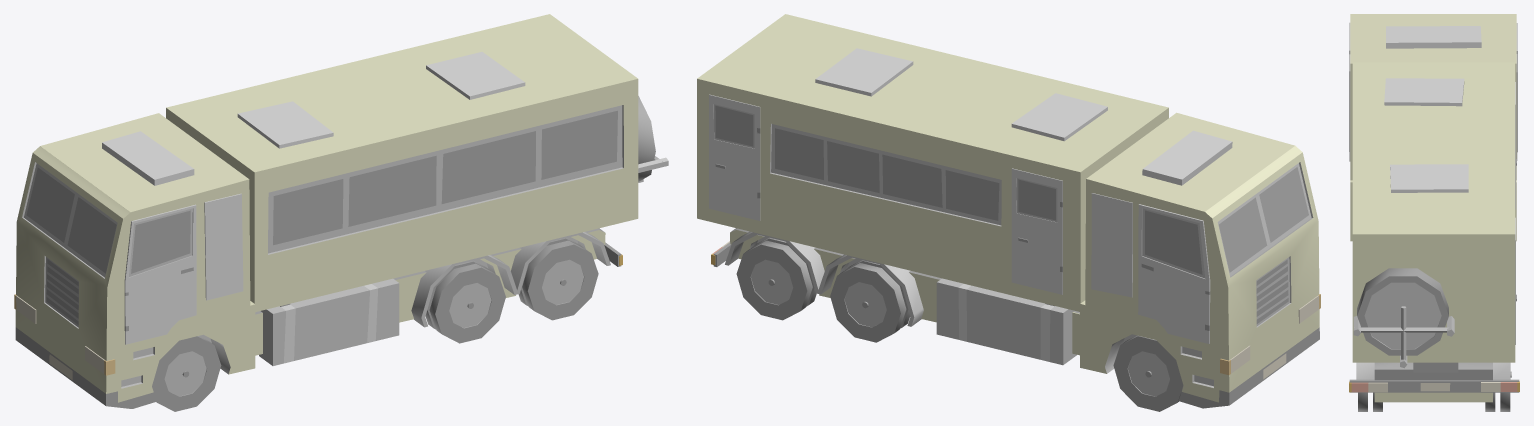
Rendered from kar16.fbx.
3 views of the same model, side by side, from view 1: azimuth 30°, elevation 25°; view 2: azimuth 150°, elevation 25°; view 3: azimuth 270°, elevation 25° (orthographic). The views are drawn at different scales.
Parts seen in each view (by area): view 1: Cylinder_7, Extrude_1_1, Cylinder_4_1, Cylinder_3_1, Cylinder_1_1; view 2: Cylinder_7, Extrude_2_1, Cube_5_1, Cube_5, Cylinder_5_1, Cylinder_1, Cylinder_2_1; view 3: Cylinder_7, Cylinder_1, Cylinder_3_1.
Part boxes in pixels (<box>): Cylinder_7: <box>14,14,668,408</box>; Extrude_1_1: <box>124,204,196,344</box>; Cylinder_4_1: <box>425,260,505,343</box>; Cylinder_3_1: <box>518,238,598,320</box>; Cylinder_1_1: <box>152,336,221,411</box>; Cylinder_7: <box>697,14,1320,408</box>; Extrude_2_1: <box>1138,204,1210,343</box>; Cube_5_1: <box>709,94,760,220</box>; Cube_5: <box>1011,168,1062,294</box>; Cylinder_5_1: <box>830,260,910,342</box>; Cylinder_1: <box>736,237,816,320</box>; Cylinder_2_1: <box>1113,335,1183,411</box>; Cylinder_7: <box>1349,14,1519,402</box>; Cylinder_1: <box>1485,371,1511,411</box>; Cylinder_3_1: <box>1358,392,1382,411</box>.
Size of the model in its own units: 879 by 338 by 251.
